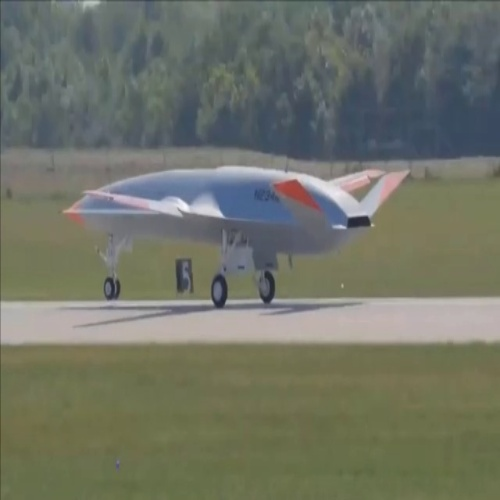uav: (49, 163, 413, 310)
